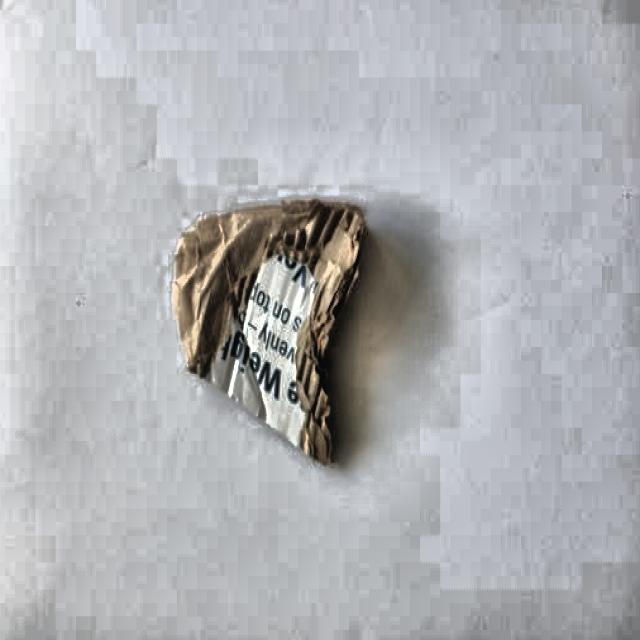cardboard: (171, 196, 367, 467)
